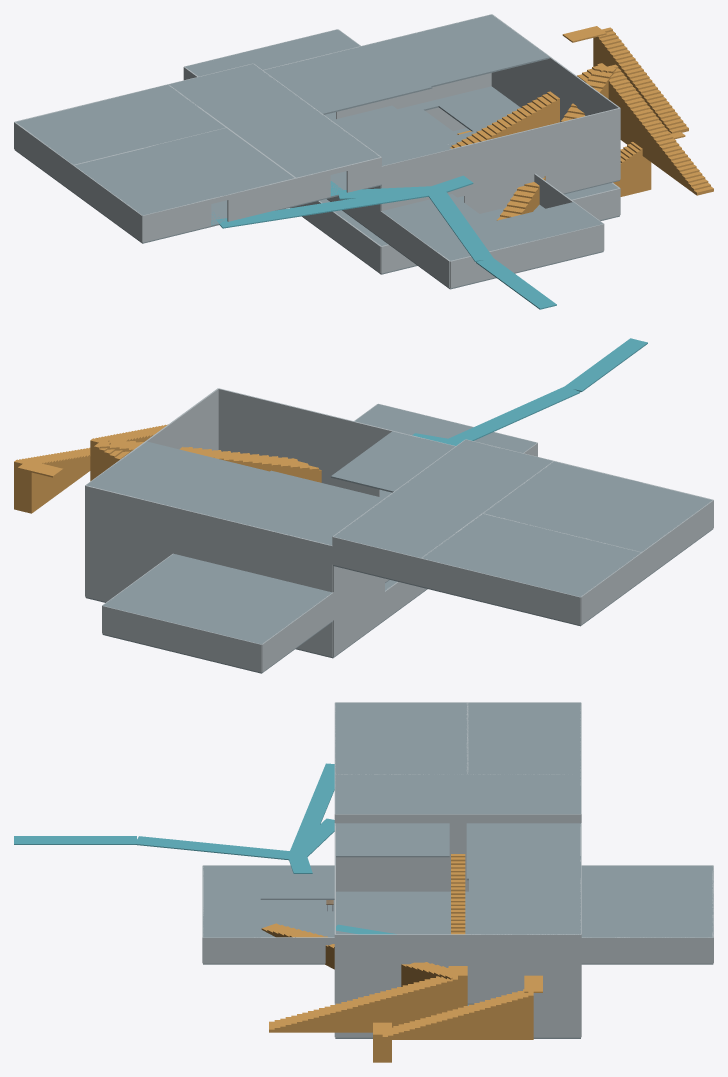
Rendered from furnished.glb.
3 views of the same model, one above another, from view 1: azimuth 30°, elevation 25°; view 2: azimuth 150°, elevation 25°; view 3: azimuth 270°, elevation 25° (orthographic). The views are drawn at different scales.
Visible parts, largest first — view 1: Ceiling cap west-stair, Ceiling cap control, Wall turbine S.001, Ceiling cap office, Ceiling cap turbine.006, Wall turbine E, Wall workshop S, Ceiling cap turbine.003, Ceiling cap turbine, Ceiling cap plant, Ceiling cap turbine.004, Ceiling cap workshop.002 (+27 smaller); view 2: Ceiling cap west-stair, Ceiling cap plant, Ceiling cap control, Wall turbine N.001, Ceiling cap office, Wall turbine S.001, Ceiling cap turbine.006, Wall plant N, Wall office N, Ceiling cap turbine, Ceiling cap turbine.003, Wall turbine N (+17 smaller); view 3: Wall turbine E, Ceiling cap west-stair, Ceiling cap control, Ceiling cap plant, Ceiling cap office, Ceiling cap turbine.006, Wall turbine W, Ceiling cap turbine.003, Ceiling cap turbine, Wall plant E, Wall workshop E, Wall west-stair E (+13 smaller).
Boxes of the visible parts, <box> form: Ceiling cap west-stair: <box>169,64,379,177</box>; Ceiling cap control: <box>74,128,294,215</box>; Wall turbine S.001: <box>464,108,620,213</box>; Ceiling cap office: <box>16,84,225,164</box>; Ceiling cap turbine.006: <box>373,14,549,87</box>; Wall turbine E: <box>491,14,620,178</box>; Wall workshop S: <box>450,224,603,288</box>; Ceiling cap turbine.003: <box>333,106,451,165</box>; Ceiling cap turbine: <box>263,55,381,112</box>; Ceiling cap plant: <box>185,29,360,76</box>; Ceiling cap turbine.004: <box>324,43,430,97</box>; Ceiling cap workshop.002: <box>491,202,602,243</box>; Ceiling cap west-stair: <box>333,439,552,557</box>; Ceiling cap plant: <box>103,554,332,644</box>; Ceiling cap control: <box>483,461,712,551</box>; Wall turbine N.001: <box>85,485,246,574</box>; Ceiling cap office: <box>422,514,640,596</box>; Wall turbine S.001: <box>218,388,379,496</box>; Ceiling cap turbine.006: <box>86,441,269,515</box>; Wall plant N: <box>102,605,261,672</box>; Wall office N: <box>421,558,580,624</box>; Ceiling cap turbine: <box>260,484,382,545</box>; Ceiling cap turbine.003: <box>332,431,455,490</box>; Wall turbine N: <box>260,528,332,592</box>; Wall turbine E: <box>335,934,580,1003</box>; Ceiling cap west-stair: <box>335,774,580,814</box>; Ceiling cap control: <box>335,702,467,774</box>; Ceiling cap plant: <box>581,865,713,937</box>; Ceiling cap office: <box>467,702,580,774</box>; Ceiling cap turbine.006: <box>469,878,580,934</box>; Wall turbine W: <box>336,840,468,891</box>; Ceiling cap turbine.003: <box>335,823,447,857</box>; Ceiling cap turbine: <box>469,823,580,855</box>; Wall plant E: <box>581,937,713,963</box>; Wall workshop E: <box>203,937,334,963</box>; Wall west-stair E: <box>335,814,580,840</box>.
Bounding box in the file's own units: 67.08 × 13.16 × 74.08.
Materials: 21 (17 with a texture image).
